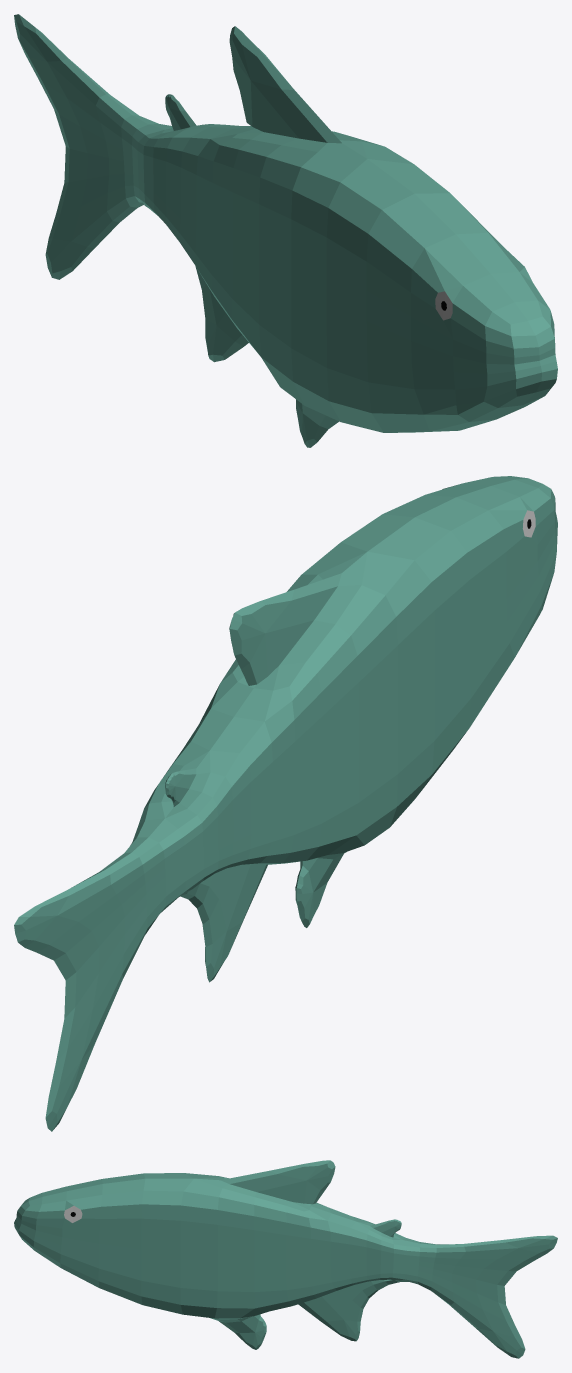
The model's file is TETRA-CEGO.fbx.
3 views of the same model, one above another, from view 1: azimuth 30°, elevation 25°; view 2: azimuth 150°, elevation 25°; view 3: azimuth 270°, elevation 25° (orthographic). The views are drawn at different scales.
Visible parts, largest first — view 1: TETRA-CEGO; view 2: TETRA-CEGO; view 3: TETRA-CEGO.
Boxes of the visible parts, x1,y1,x2,y2 form: TETRA-CEGO: (14, 14, 557, 447); TETRA-CEGO: (14, 476, 557, 1131); TETRA-CEGO: (14, 1160, 557, 1358).
Size of the model in its own units: 0.1204 by 0.4144 by 1.03.
